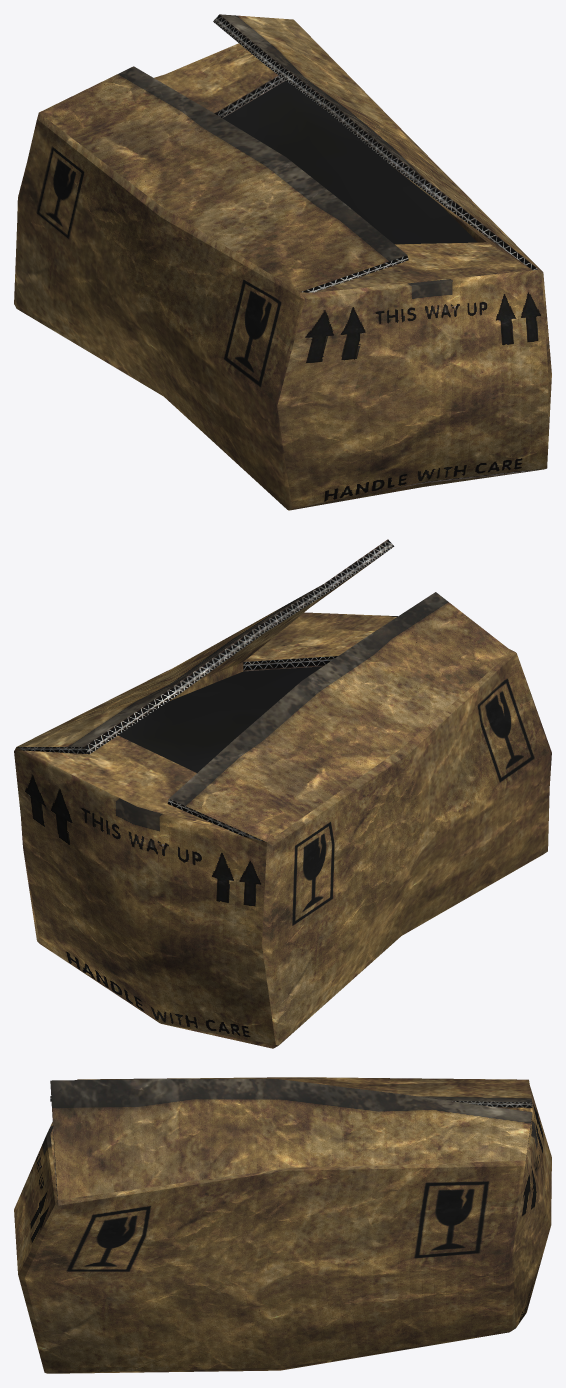
The model's file is CardboardBoxA_Destroyed.fbx.
The picture shows the model from 3 angles, top to bottom: view 1: azimuth 30°, elevation 25°; view 2: azimuth 150°, elevation 25°; view 3: azimuth 270°, elevation 25°; orthographic projection. The views are drawn at different scales.
Visible parts, largest first — view 1: CardboardBoxA_Destroyed; view 2: CardboardBoxA_Destroyed; view 3: CardboardBoxA_Destroyed.
Boxes of the visible parts, box(x1,y1,x2,y2) form: CardboardBoxA_Destroyed: box(14, 14, 551, 510); CardboardBoxA_Destroyed: box(14, 539, 551, 1048); CardboardBoxA_Destroyed: box(14, 1077, 551, 1373).
Bounding box in the file's own units: 27.9 × 27.42 × 51.23.
